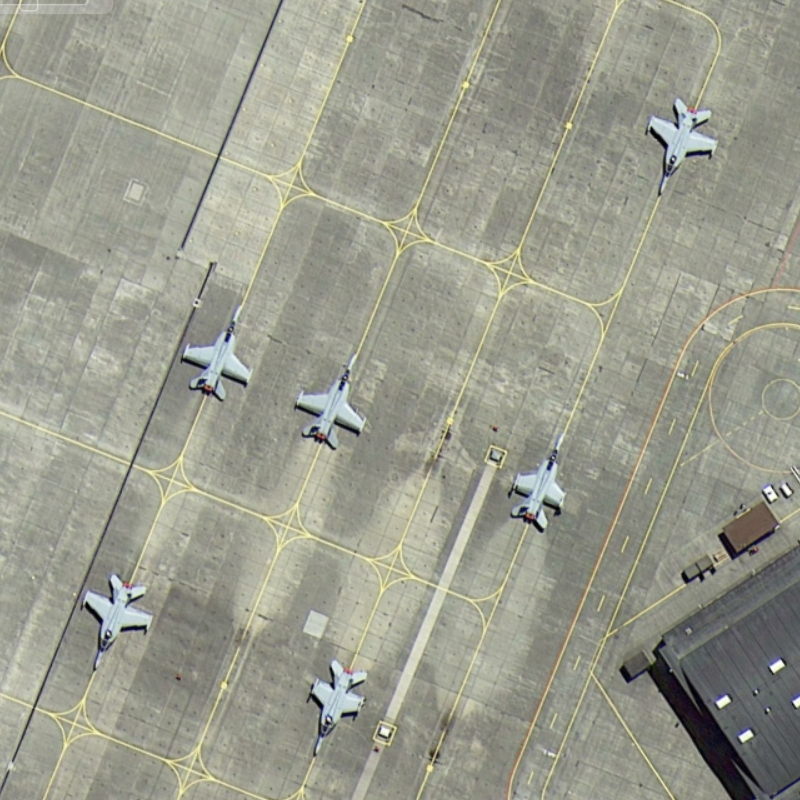A16: (176, 290, 260, 406), (640, 94, 724, 199), (76, 570, 159, 674), (501, 427, 580, 534), (292, 349, 371, 451), (303, 652, 370, 763)
